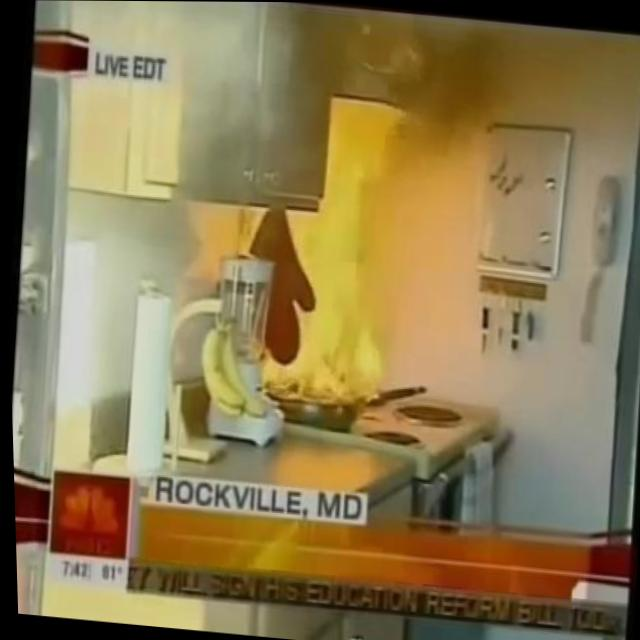fire: (252, 197, 399, 417)
